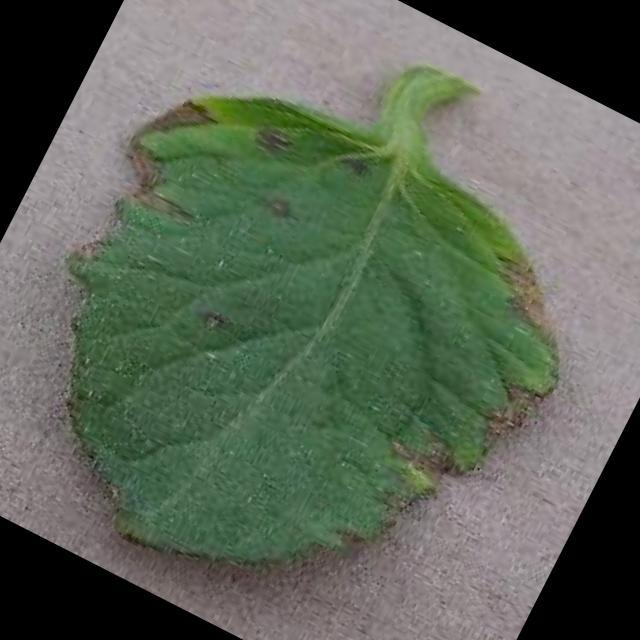Tomato bacterial spot leaf: (0, 31, 628, 640)
